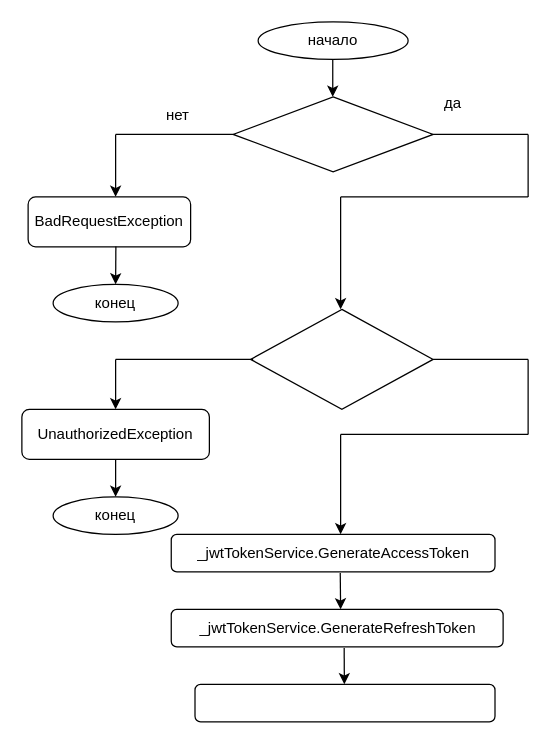
This 551x744 diagram has some shape labels left out. Each missing label, with the centre of its shape:
"save refreshToken" goes at [344,702].
"валидация login request" goes at [332,134].
"корректный ли пароль?" goes at [341,358].
